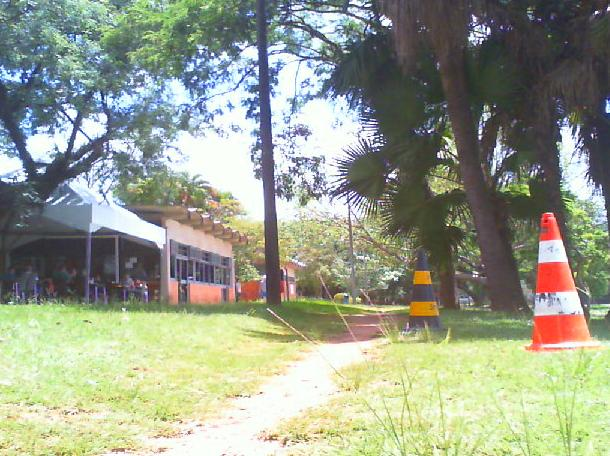0 cone: (519, 212, 602, 353), (400, 249, 449, 336)
